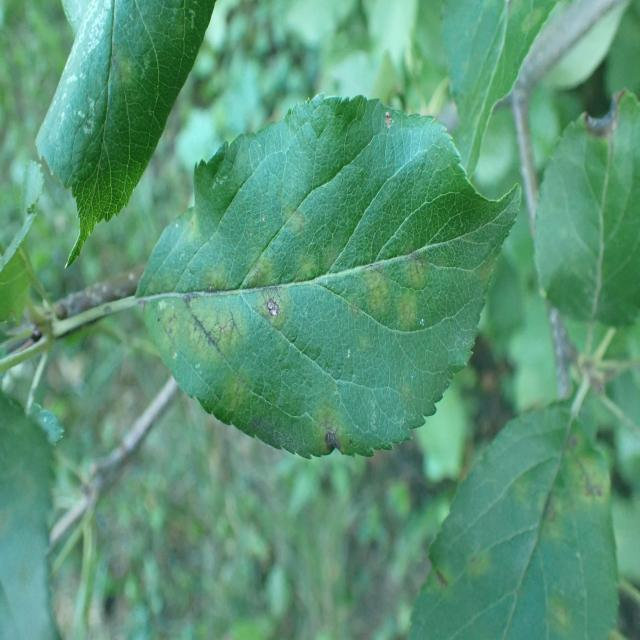scab: (156, 165, 467, 452), (440, 425, 628, 640), (83, 0, 165, 142)
